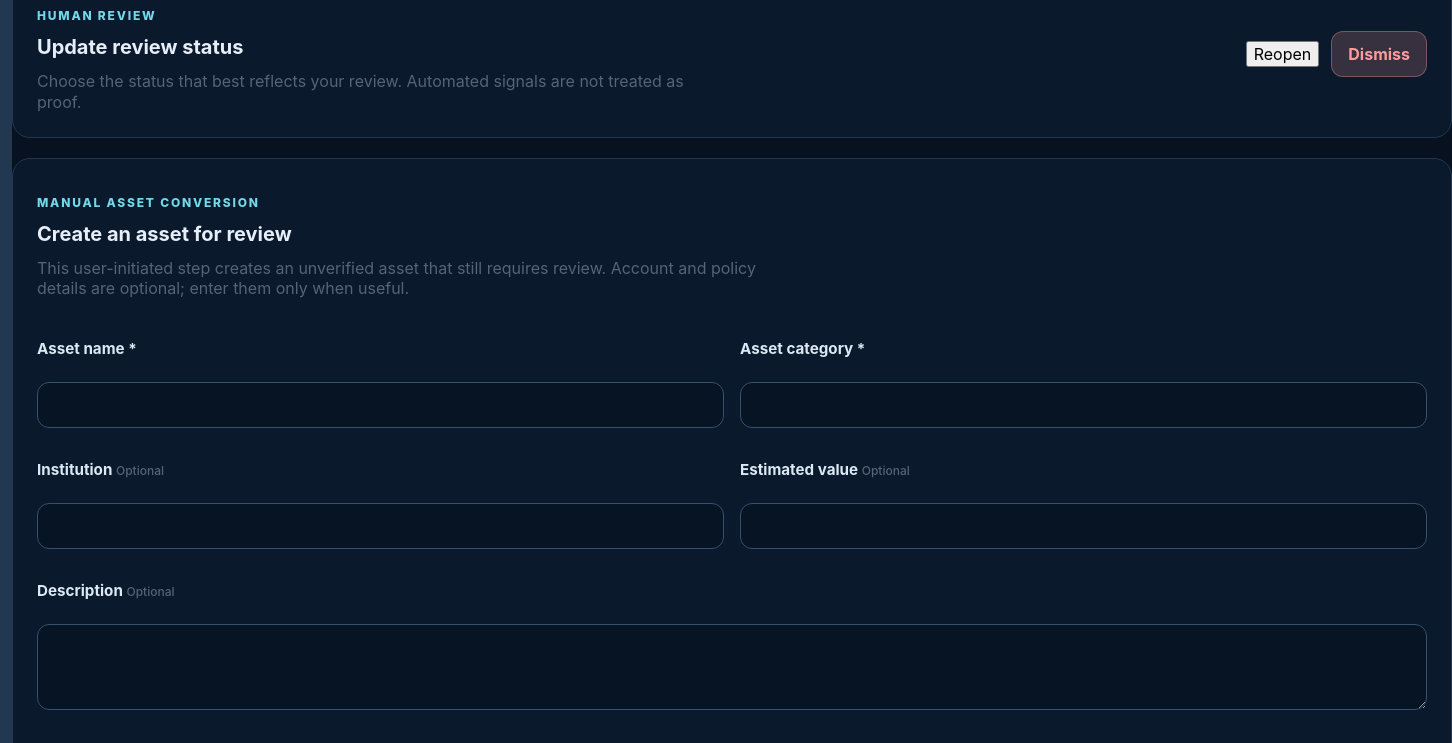
FindingDetailPage › shows sanitized conflict feedback: An asset has already been created from this finding.
(page scrolled)
Type "Former employer plan" into the field labelled "Asset name *".
click(380, 405); type("Former employer plan")  # box [37,382,724,428]
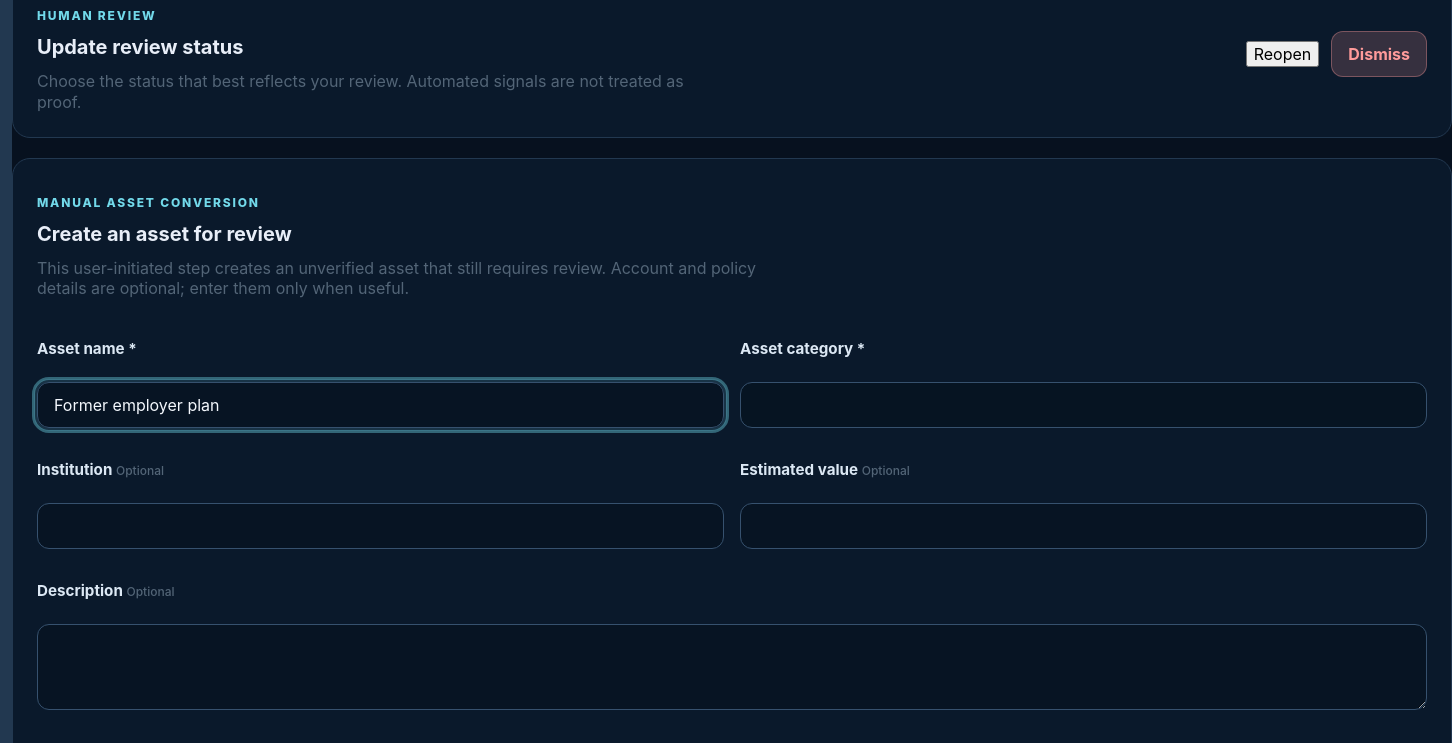
Type "Retirement" into the field labelled "Asset category *".
click(1084, 405); type("Retirement")  # box [740,382,1427,428]
(page scrolled)
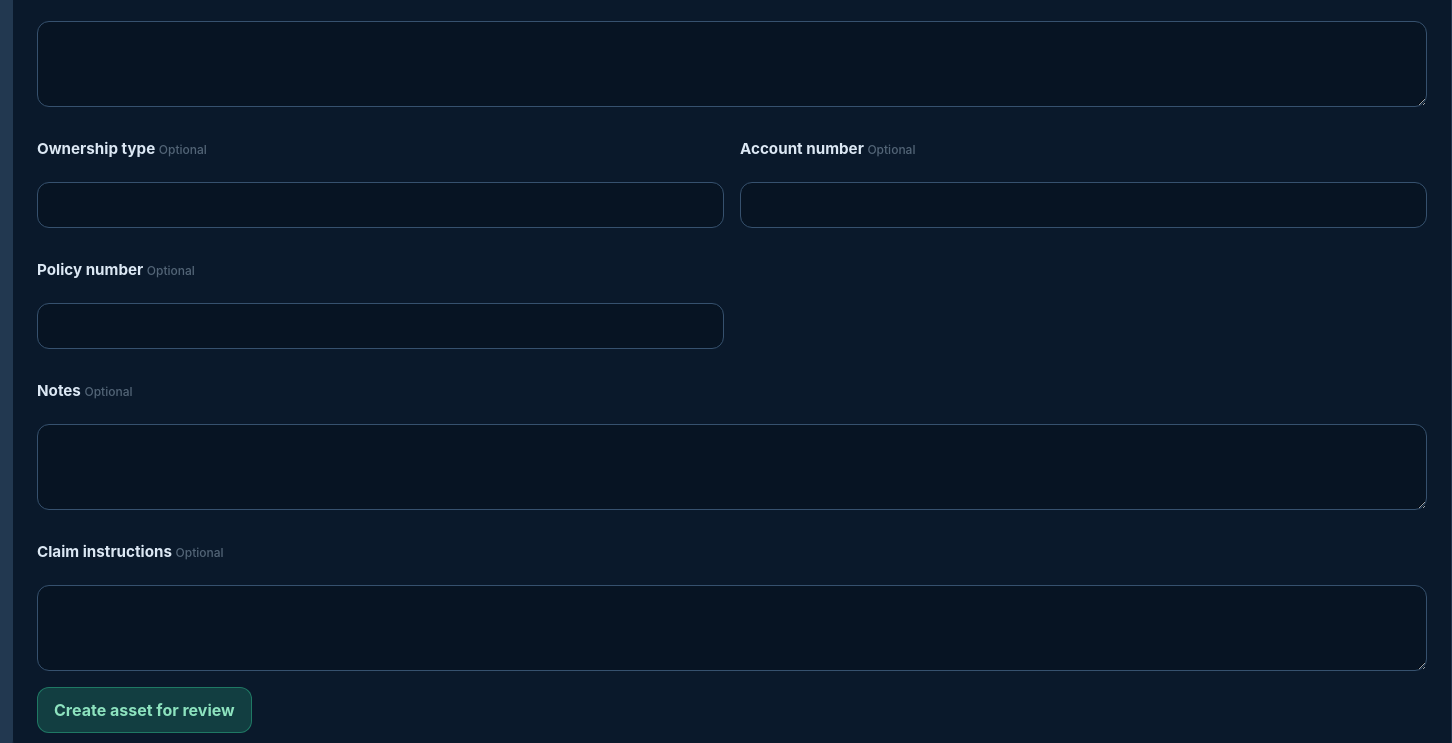
Click the button "Create asset for review".
click(144, 710)  # box [37,687,252,733]
(page scrolled)
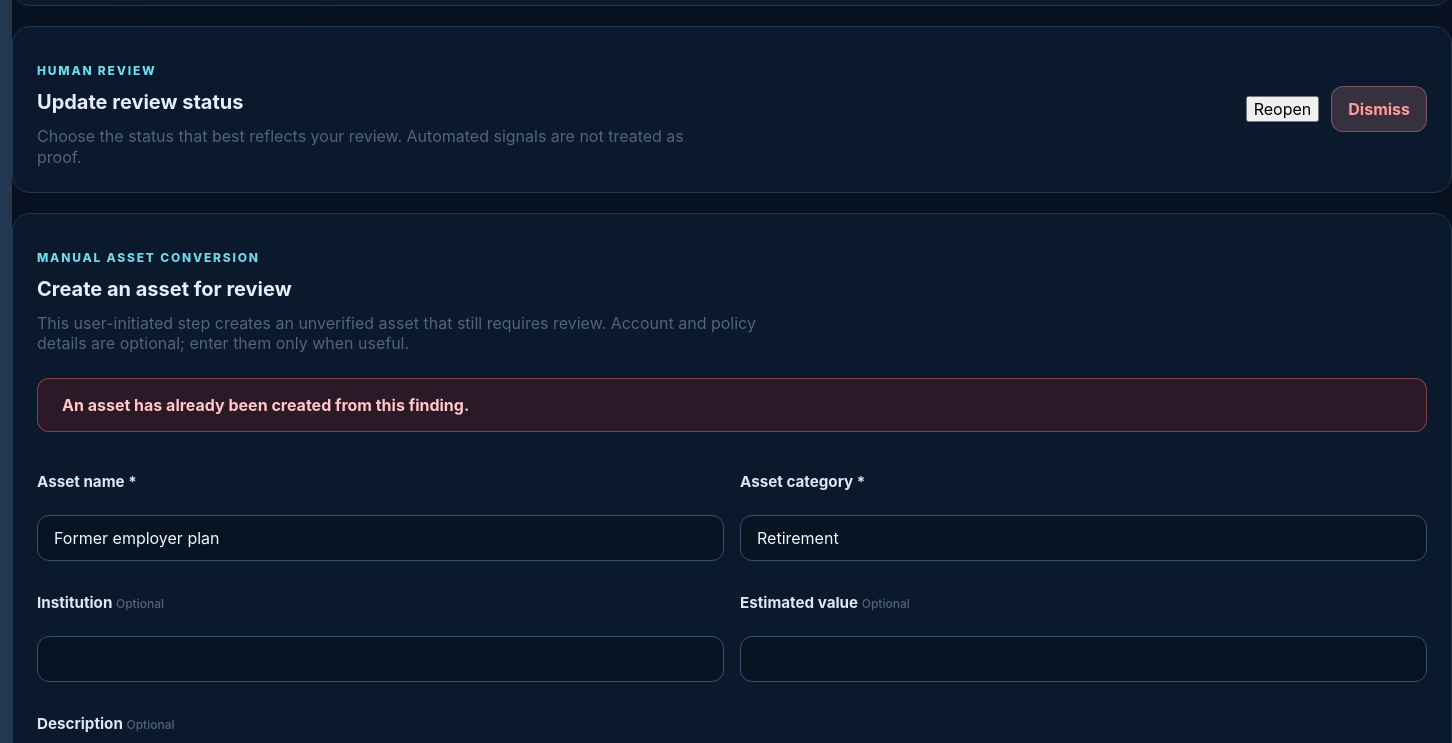
Expected: the message reads "An asset has already been created from this finding.", [62,395,469,415]
